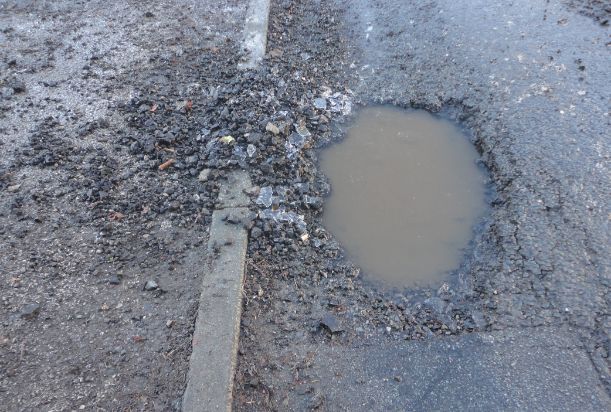pothole: (303, 89, 506, 320)
